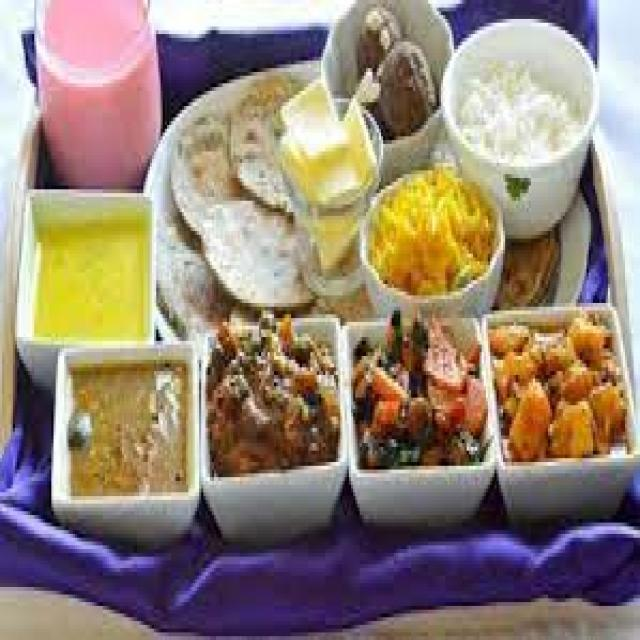curd: (440, 17, 600, 197)
dal: (20, 193, 156, 355), (366, 160, 494, 311)
sweet: (176, 124, 240, 206)
veg-fry: (344, 286, 491, 510), (202, 293, 344, 524), (482, 290, 626, 487), (56, 341, 197, 518)
